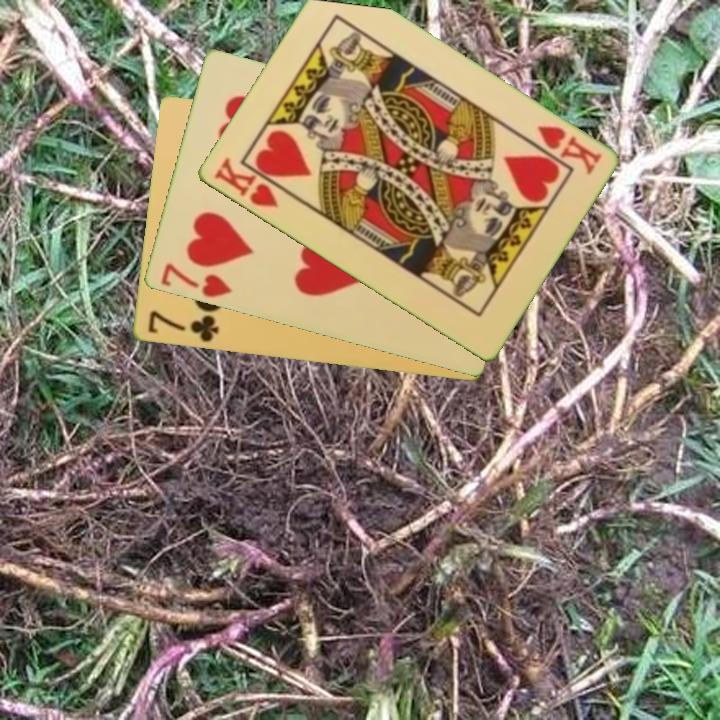7c: (144, 307, 221, 346)
7h: (156, 260, 235, 301)
Kh: (210, 154, 292, 211), (532, 121, 604, 178)
